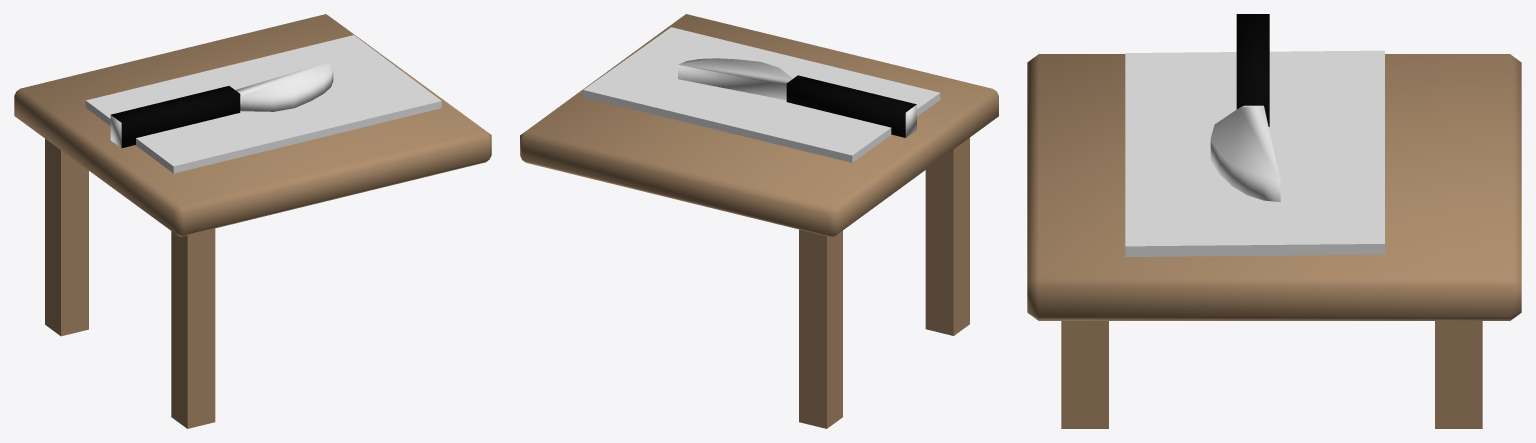
Rendered from table_left_work_board.glb.
3 renders of one model, left to right at view 1: azimuth 30°, elevation 25°; view 2: azimuth 150°, elevation 25°; view 3: azimuth 270°, elevation 25°, orthographic. The views are drawn at different scales.
Parts seen in each view (by area): view 1: Plan de travail; view 2: Plan de travail; view 3: Plan de travail.
Boxes of the visible parts, x1,y1,x2,y2 form: Plan de travail: [14, 14, 491, 428]; Plan de travail: [520, 14, 998, 428]; Plan de travail: [1027, 14, 1521, 428].
Bounding box in the file's own units: 2.61 × 2.07 × 2.38.
